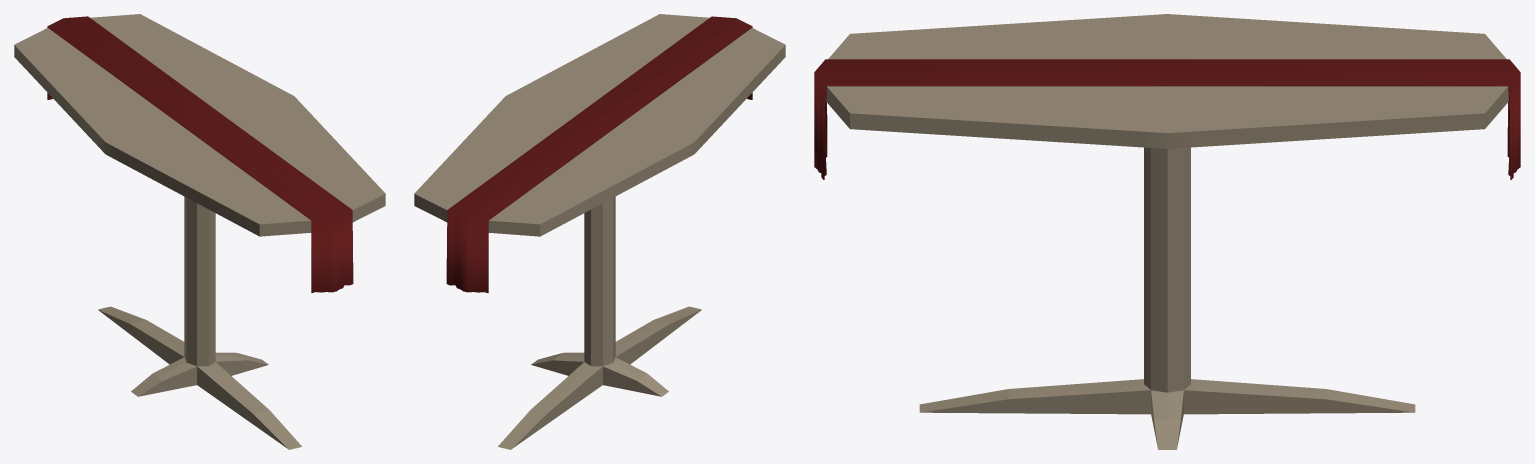
Rendered from table_redTableCloth.fbx.
3 renders of one model, left to right at view 1: azimuth 30°, elevation 25°; view 2: azimuth 150°, elevation 25°; view 3: azimuth 270°, elevation 25°, orthographic. The views are drawn at different scales.
Visible parts, largest first — view 1: table, tableCloth; view 2: table, tableCloth; view 3: table, tableCloth.
Part boxes in pixels (x1,y1,x2,y2): table: [14, 14, 385, 449]; tableCloth: [47, 16, 353, 292]; table: [414, 14, 785, 449]; tableCloth: [446, 16, 752, 292]; table: [826, 14, 1508, 449]; tableCloth: [814, 59, 1520, 179].
Bounding box in the file's own units: 61.07 × 80.35 × 153.
